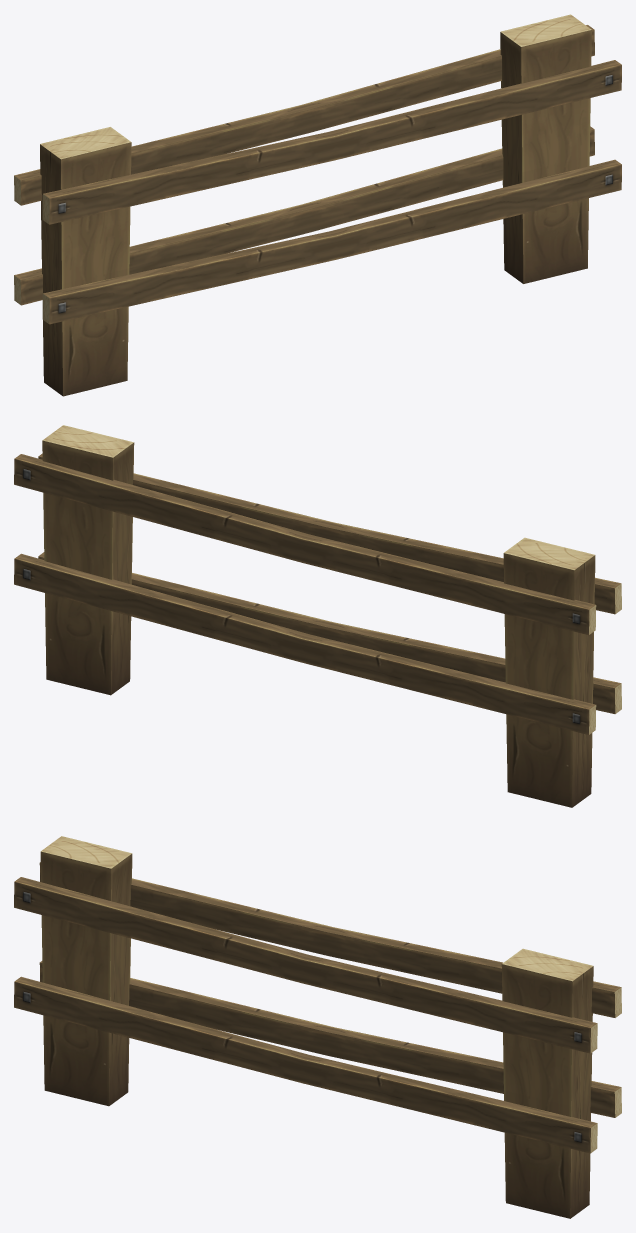
File: wooden_fence_35.fbx
The picture shows the model from 3 angles, top to bottom: view 1: azimuth 30°, elevation 25°; view 2: azimuth 150°, elevation 25°; view 3: azimuth 330°, elevation 25°; orthographic projection.
Visible parts, largest first — view 1: wooden_fence_35:Mesh; view 2: wooden_fence_35:Mesh; view 3: wooden_fence_35:Mesh.
Boxes of the visible parts, x1,y1,x2,y2 form: wooden_fence_35:Mesh: [14, 14, 621, 396]; wooden_fence_35:Mesh: [14, 425, 621, 807]; wooden_fence_35:Mesh: [14, 836, 621, 1218].
Bounding box in the file's own units: 7 × 2.77 × 0.7148.
